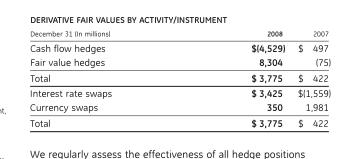table: (29, 28, 330, 128)
table column: (29, 28, 180, 128), (180, 28, 290, 128), (290, 28, 330, 128)
table column header: (29, 28, 330, 39)
table row: (29, 69, 330, 85), (29, 39, 330, 54), (29, 54, 330, 69), (29, 99, 330, 114), (29, 85, 330, 99), (29, 114, 330, 128), (29, 28, 330, 39)
